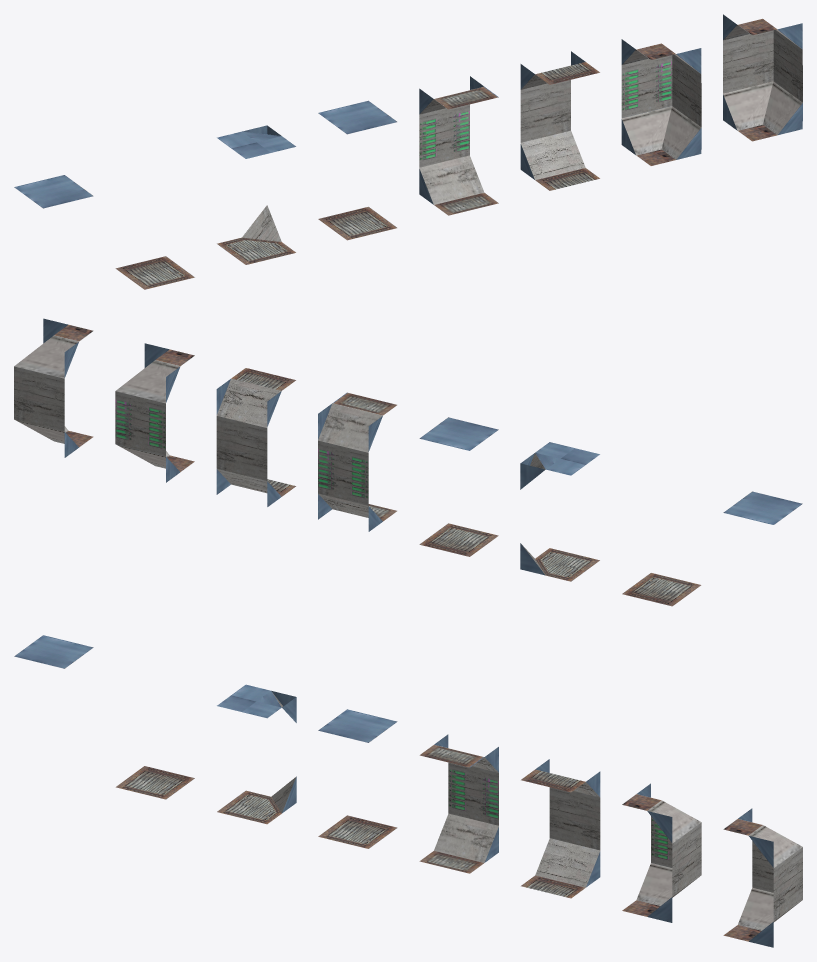
Rendered from tileset1.glb.
The picture shows the model from 3 angles, top to bottom: view 1: azimuth 30°, elevation 25°; view 2: azimuth 150°, elevation 25°; view 3: azimuth 330°, elevation 25°; orthographic projection.
Parts seen in each view (by area): view 1: inside-col, inside2-col, wall2-col, wall-col, outside-col, middle-col, hole_bottom-col, hole-top-col; view 2: wall2-col, wall-col, inside2-col, inside-col, outside-col, middle-col, hole-top-col, hole_bottom-col; view 3: wall2-col, wall-col, inside2-col, inside-col, outside-col, middle-col, hole-top-col, hole_bottom-col.
Part boxes in pixels (x1,y1,x2,y2): inside-col: [621, 39, 701, 165]; inside2-col: [723, 14, 802, 141]; wall2-col: [520, 51, 599, 190]; wall-col: [419, 76, 498, 215]; outside-col: [217, 125, 295, 264]; middle-col: [318, 100, 396, 240]; hole_bottom-col: [14, 175, 93, 208]; hole-top-col: [115, 256, 194, 289]; wall2-col: [216, 368, 295, 506]; wall-col: [318, 392, 396, 531]; inside2-col: [14, 318, 93, 457]; inside-col: [115, 343, 194, 482]; outside-col: [520, 442, 599, 581]; middle-col: [419, 417, 498, 556]; hole-top-col: [622, 573, 701, 606]; hole_bottom-col: [723, 491, 802, 524]; wall2-col: [521, 759, 600, 898]; wall-col: [419, 734, 498, 873]; inside2-col: [723, 808, 802, 947]; inside-col: [622, 783, 701, 922]; outside-col: [217, 684, 296, 824]; middle-col: [318, 709, 397, 848]; hole-top-col: [115, 766, 194, 799]; hole_bottom-col: [14, 635, 93, 668].
Bounding box in the file's own units: 30 × 4 × 2.01.
Materials: 4 (4 with a texture image).
